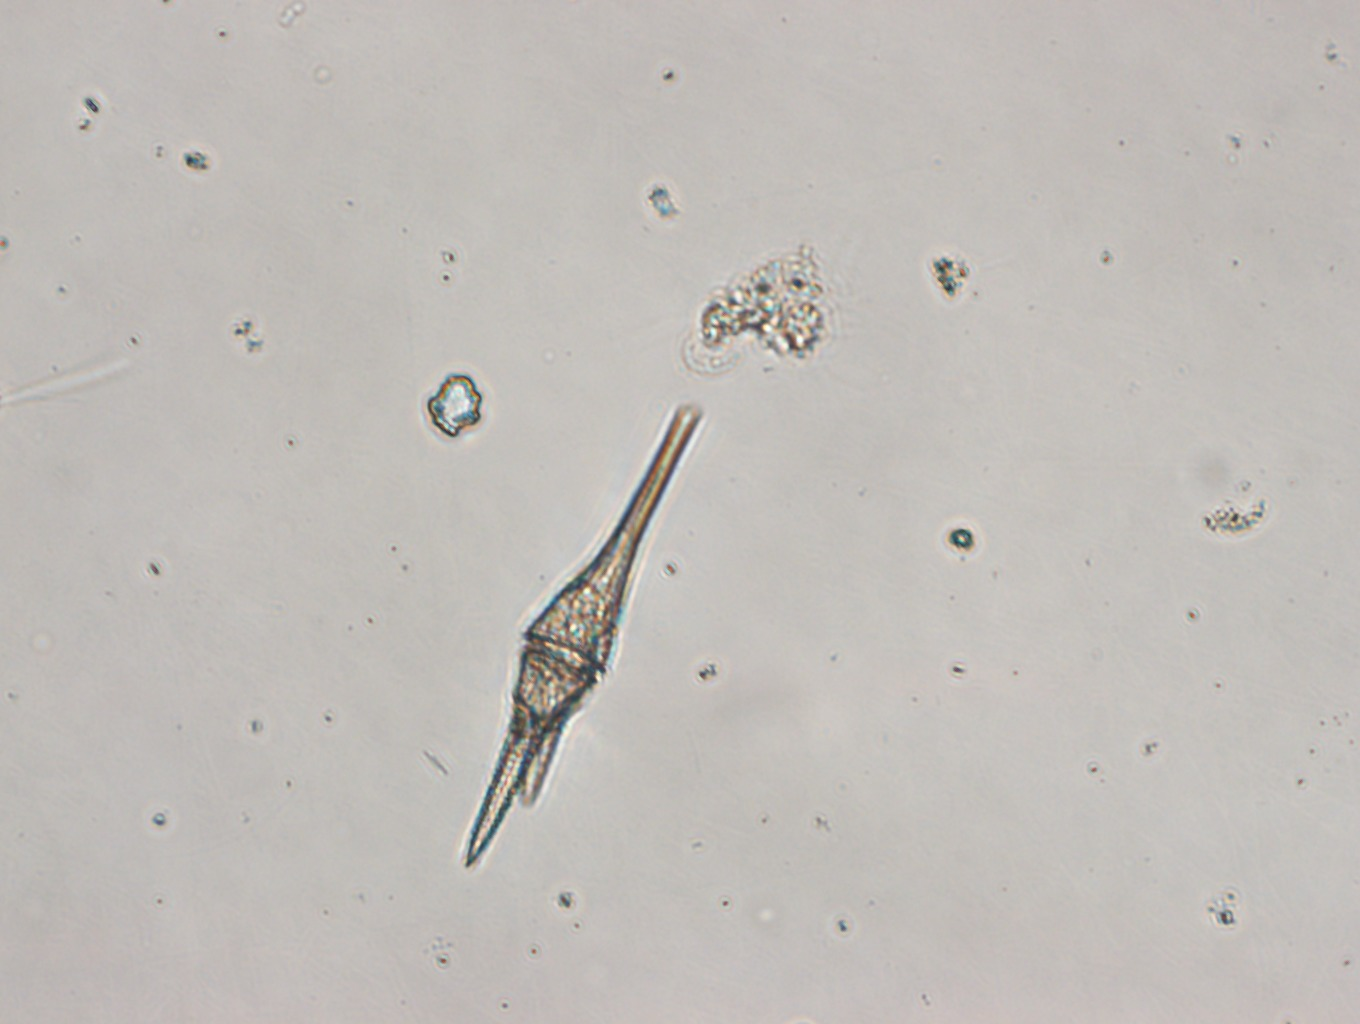ceratium furca: (460, 401, 711, 876)
